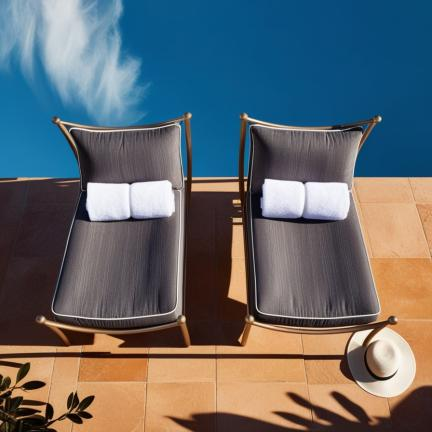occupied chair: (36, 113, 192, 346), (239, 114, 386, 344)
